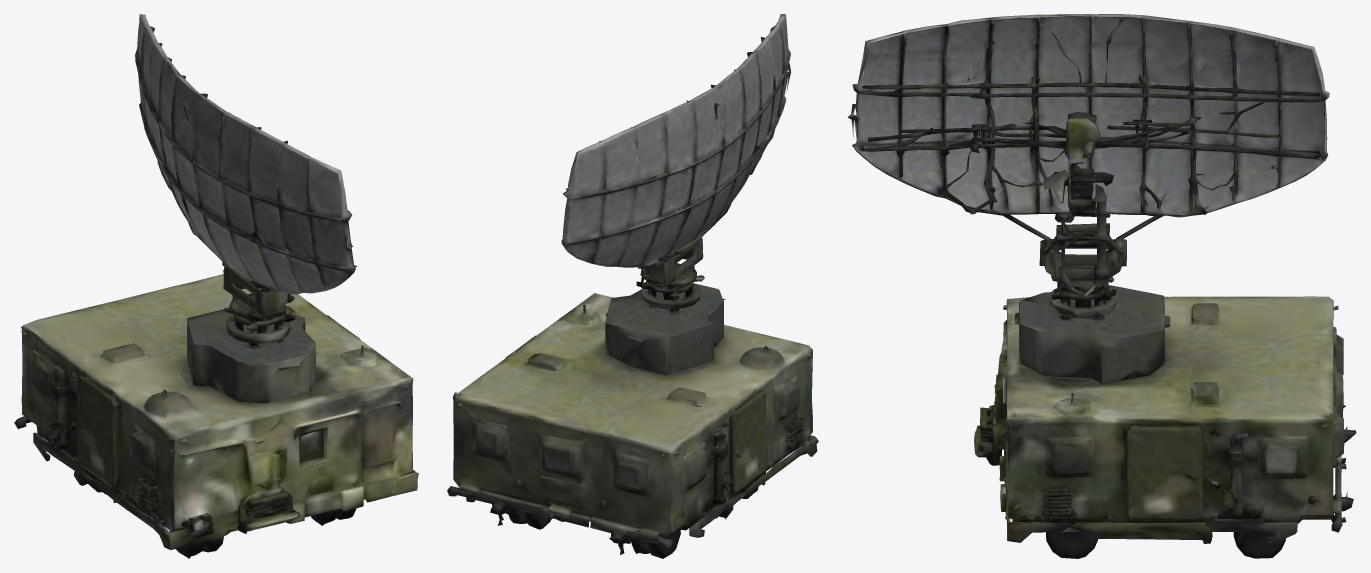
Rendered from base_radar.glb.
3 renders of one model, left to right at view 1: azimuth 30°, elevation 25°; view 2: azimuth 150°, elevation 25°; view 3: azimuth 270°, elevation 25°, orthographic. The views are drawn at different scales.
Parts seen in each view (by area): view 1: tripo_node_e8c6d7a5-0add-4ca3-95be-2df12a128459; view 2: tripo_node_e8c6d7a5-0add-4ca3-95be-2df12a128459; view 3: tripo_node_e8c6d7a5-0add-4ca3-95be-2df12a128459.
Part boxes in pixels (left/top/right/bottom): tripo_node_e8c6d7a5-0add-4ca3-95be-2df12a128459: left=14, top=14, right=418, bottom=558; tripo_node_e8c6d7a5-0add-4ca3-95be-2df12a128459: left=447, top=14, right=818, bottom=558; tripo_node_e8c6d7a5-0add-4ca3-95be-2df12a128459: left=847, top=14, right=1356, bottom=558.
Bounding box in the file's own units: 0.6538 × 1 × 0.9713.
Materials: 1 (1 with a texture image).
